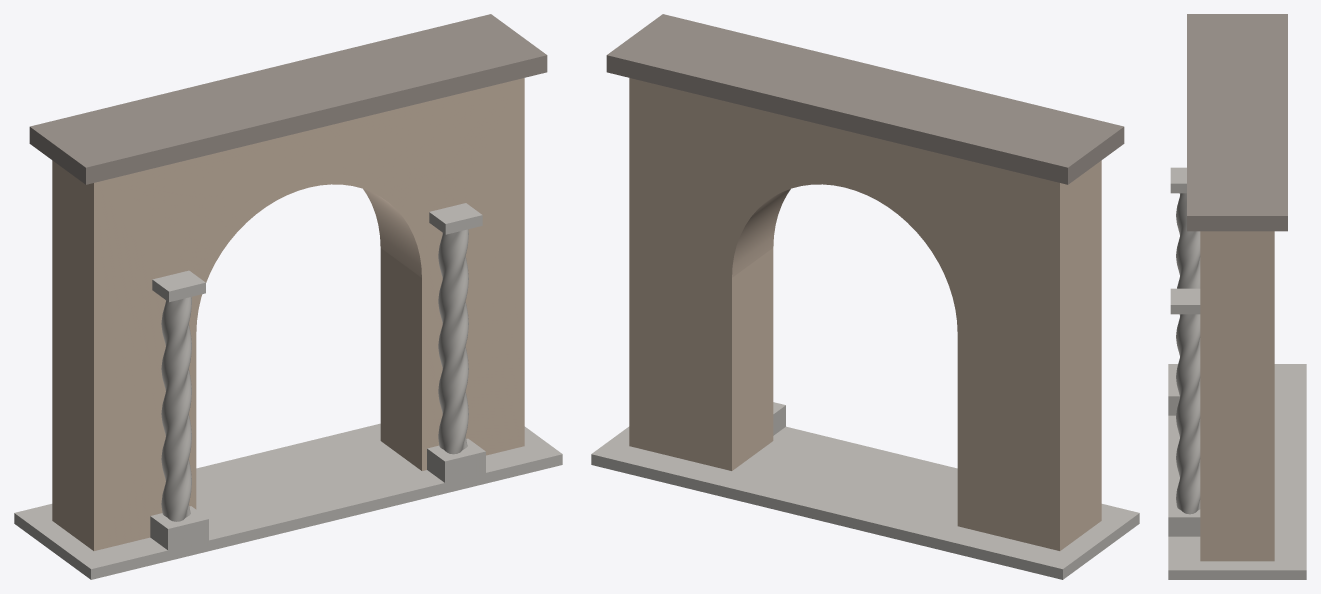
File: G_ArchWall.fbx
3 views of the same model, side by side, from view 1: azimuth 30°, elevation 25°; view 2: azimuth 150°, elevation 25°; view 3: azimuth 270°, elevation 25° (orthographic). The views are drawn at different scales.
Visible parts, largest first — view 1: G_ArchWall; view 2: G_ArchWall; view 3: G_ArchWall.
Part boxes in pixels (x1,y1,x2,y2): G_ArchWall: (14, 14, 562, 579); G_ArchWall: (591, 14, 1139, 579); G_ArchWall: (1168, 14, 1306, 579).
Bounding box in the file's own units: 4.6 × 3.76 × 1.3.
